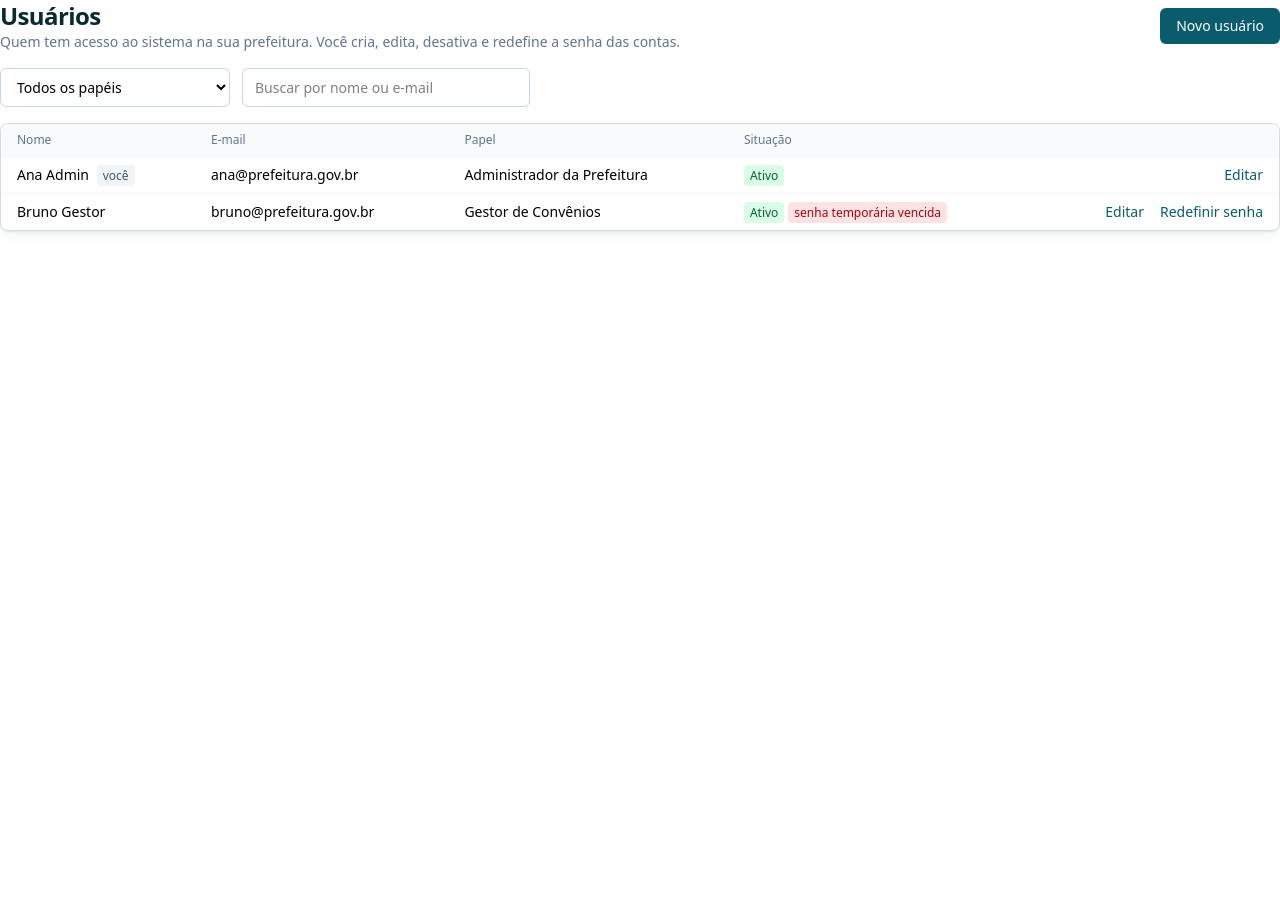
Test: tela de usuários › senha temporária vencida aparece em vermelho e a redefinição informa até quando a nova vale
Expected: the text "senha temporária vencida" is shown, [788,202,947,223]
Click the button "Redefinir senha": (1212, 212) [1160,202,1263,222]
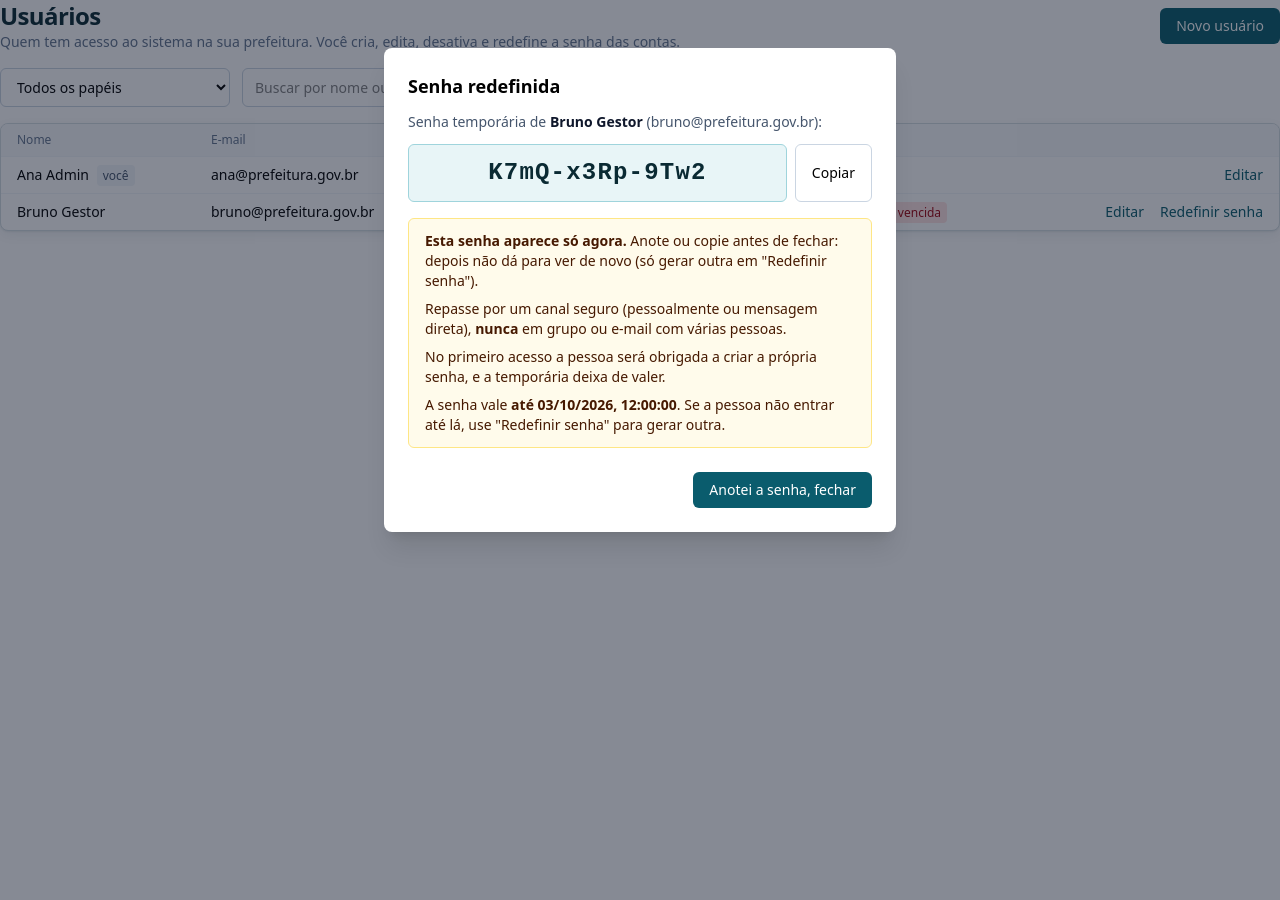
Result: the text "A senha vale até" is shown at [425,395,855,435]
